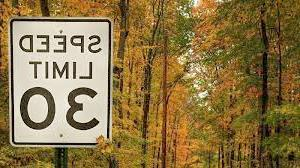speed limit sign: (9, 19, 114, 147)
